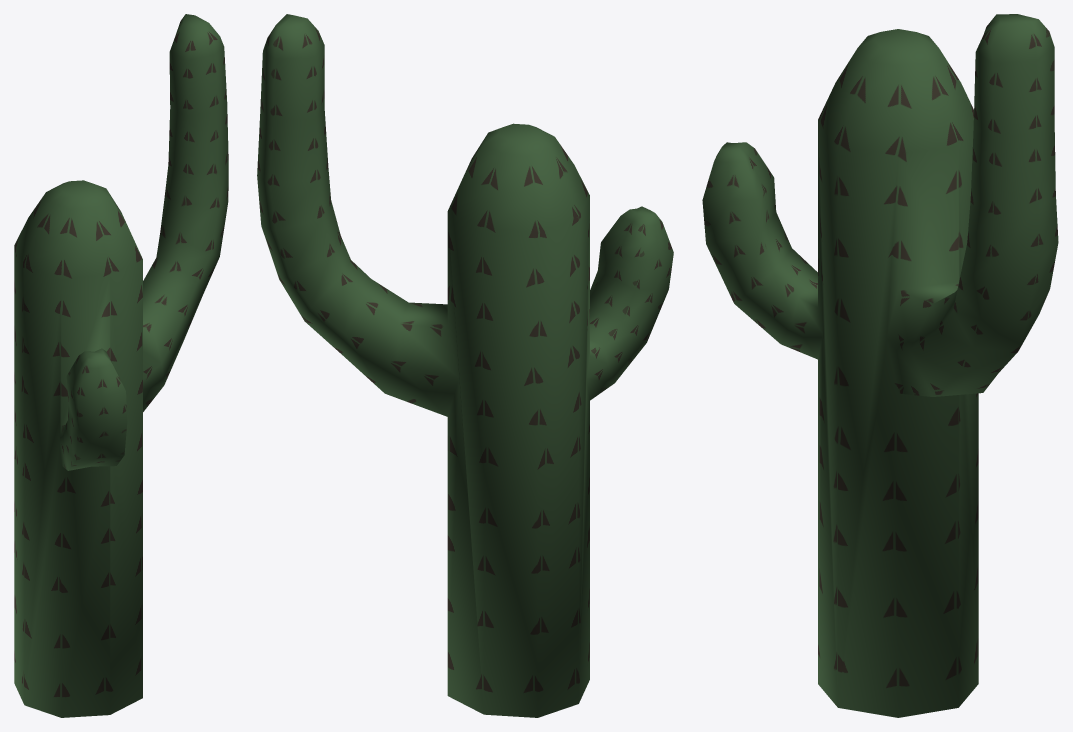
Rendered from cactus-2.glb.
3 views of the same model, side by side, from view 1: azimuth 30°, elevation 25°; view 2: azimuth 150°, elevation 25°; view 3: azimuth 270°, elevation 25° (orthographic). The views are drawn at different scales.
Visible parts, largest first — view 1: cactus2; view 2: cactus2; view 3: cactus2.
Part boxes in pixels (bbox=[...]): cactus2: bbox=[14, 14, 228, 717]; cactus2: bbox=[257, 14, 673, 717]; cactus2: bbox=[702, 14, 1058, 717].
Bounding box in the file's own units: 1.89 × 4.19 × 1.76.
1 material, 1 textured.
